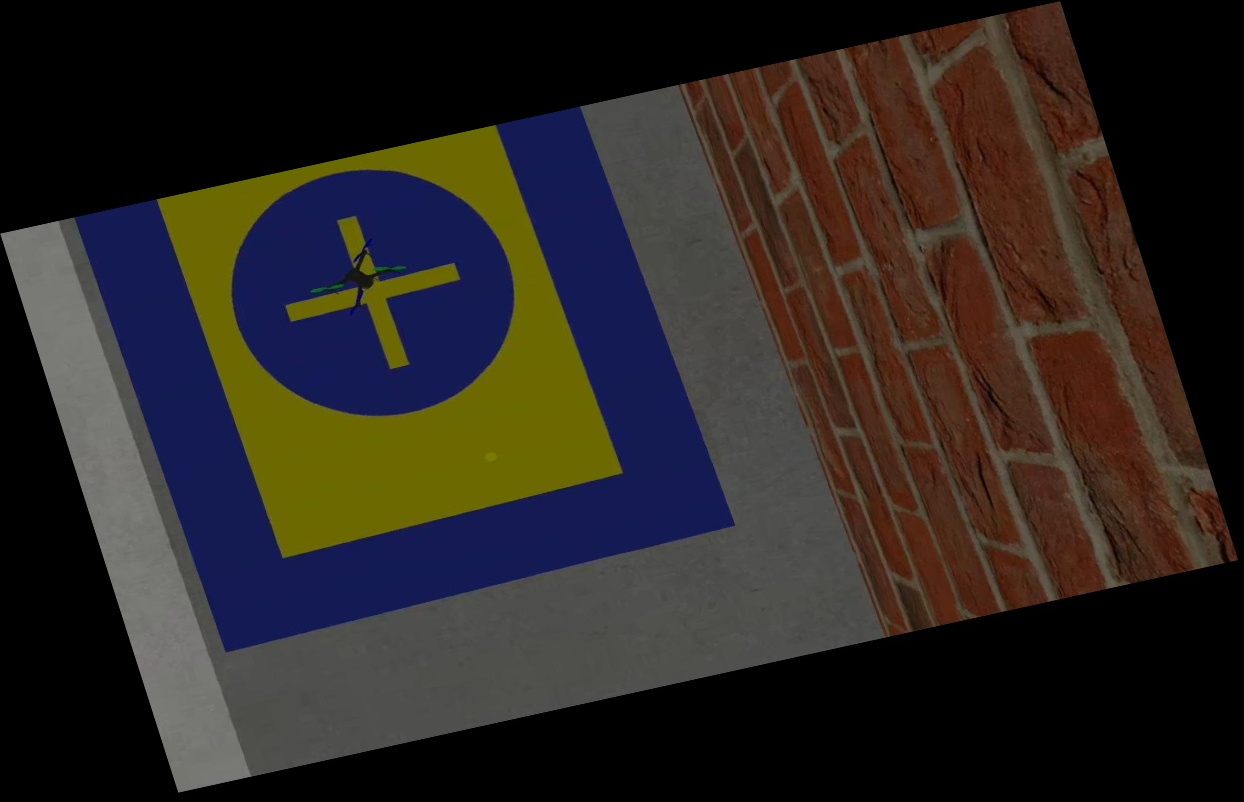large_base: (72, 101, 741, 652)
